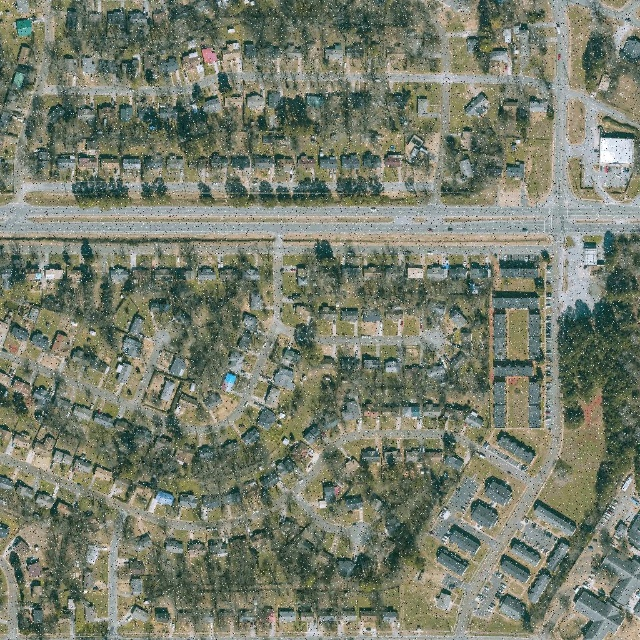vegetation: (528, 267, 640, 633), (581, 37, 606, 92)
